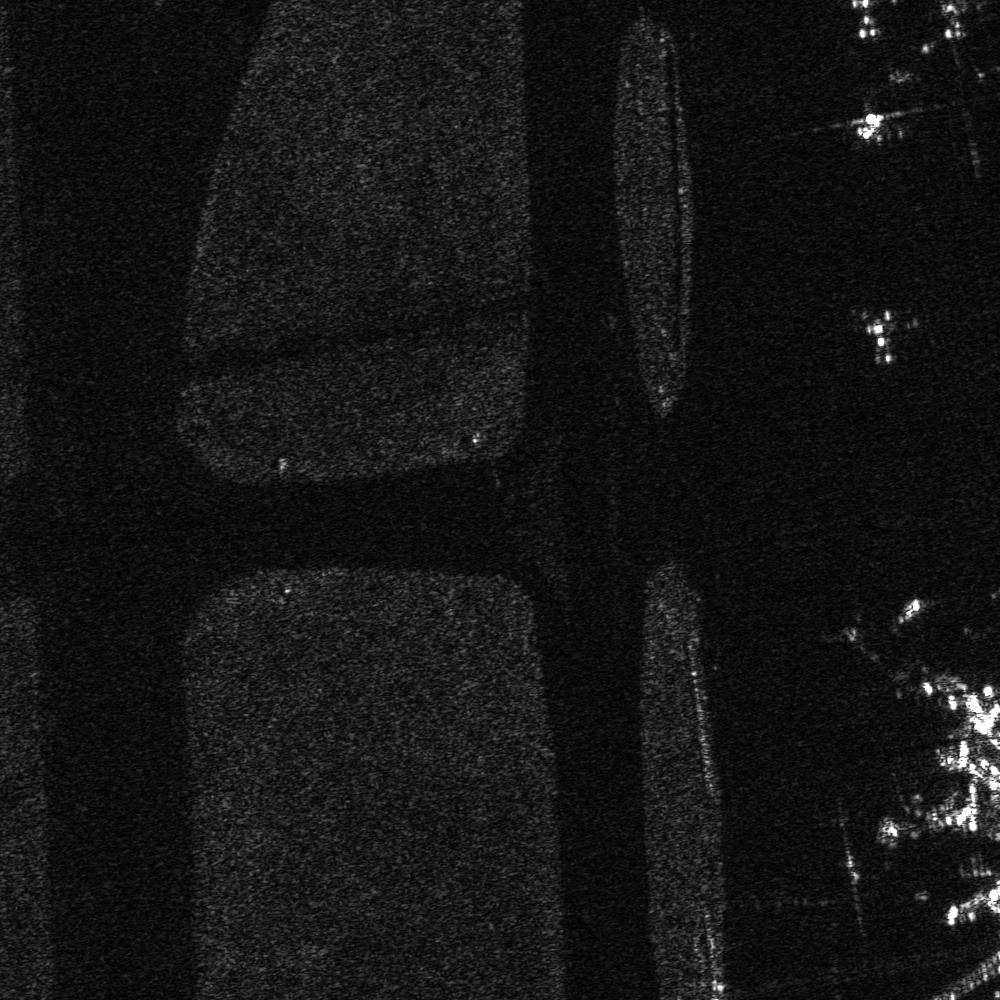ARJ21: (852, 298, 906, 373), (847, 98, 903, 144)
